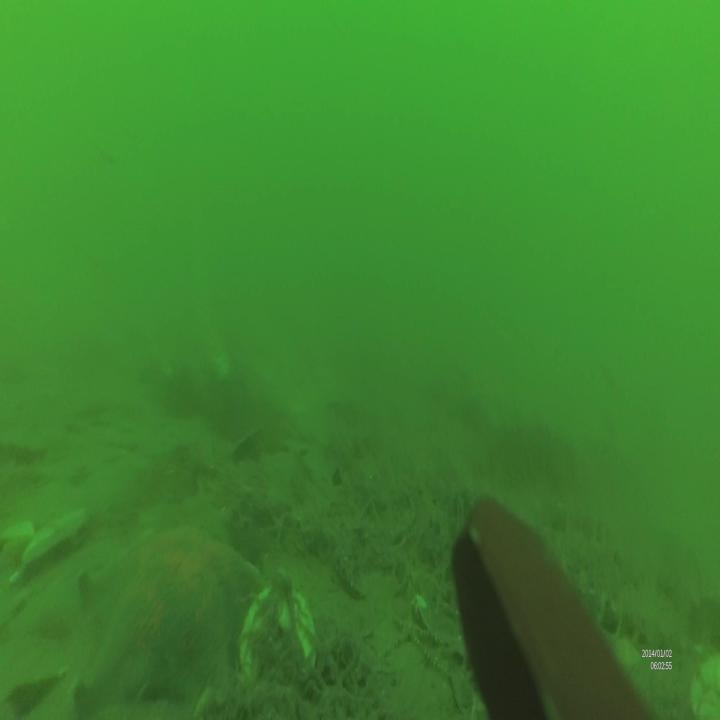scallop: (238, 575, 317, 687), (19, 510, 91, 579)
starfish: (77, 512, 267, 720), (389, 601, 438, 662)
